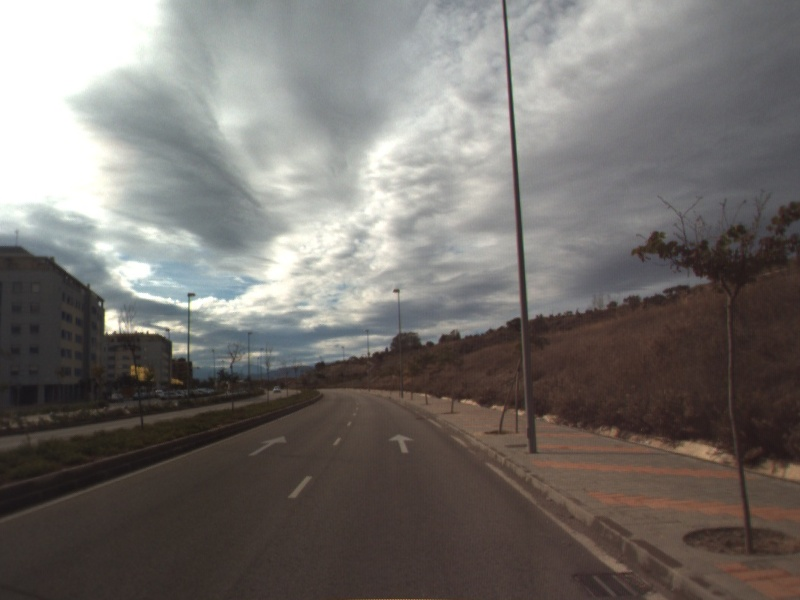STRAIGHT: (246, 433, 289, 458), (386, 432, 417, 455)
